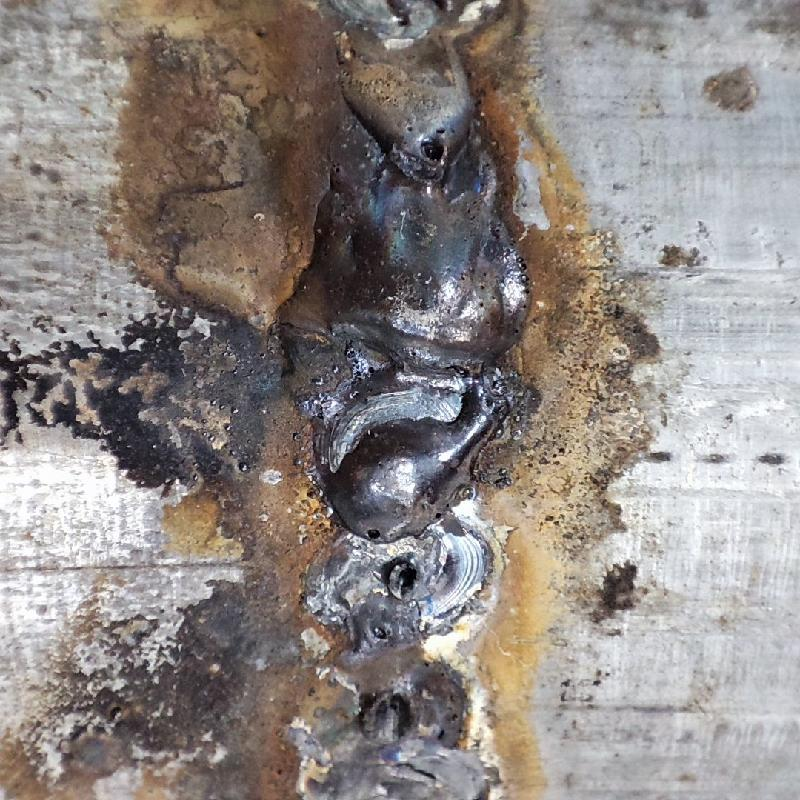Not_fully_soldered: (309, 525, 498, 799), (319, 1, 503, 180)
Surface_pores: (395, 115, 465, 172), (363, 510, 390, 549)
Weld: (266, 180, 532, 550)
